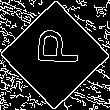P_W: (29, 36, 81, 74)
